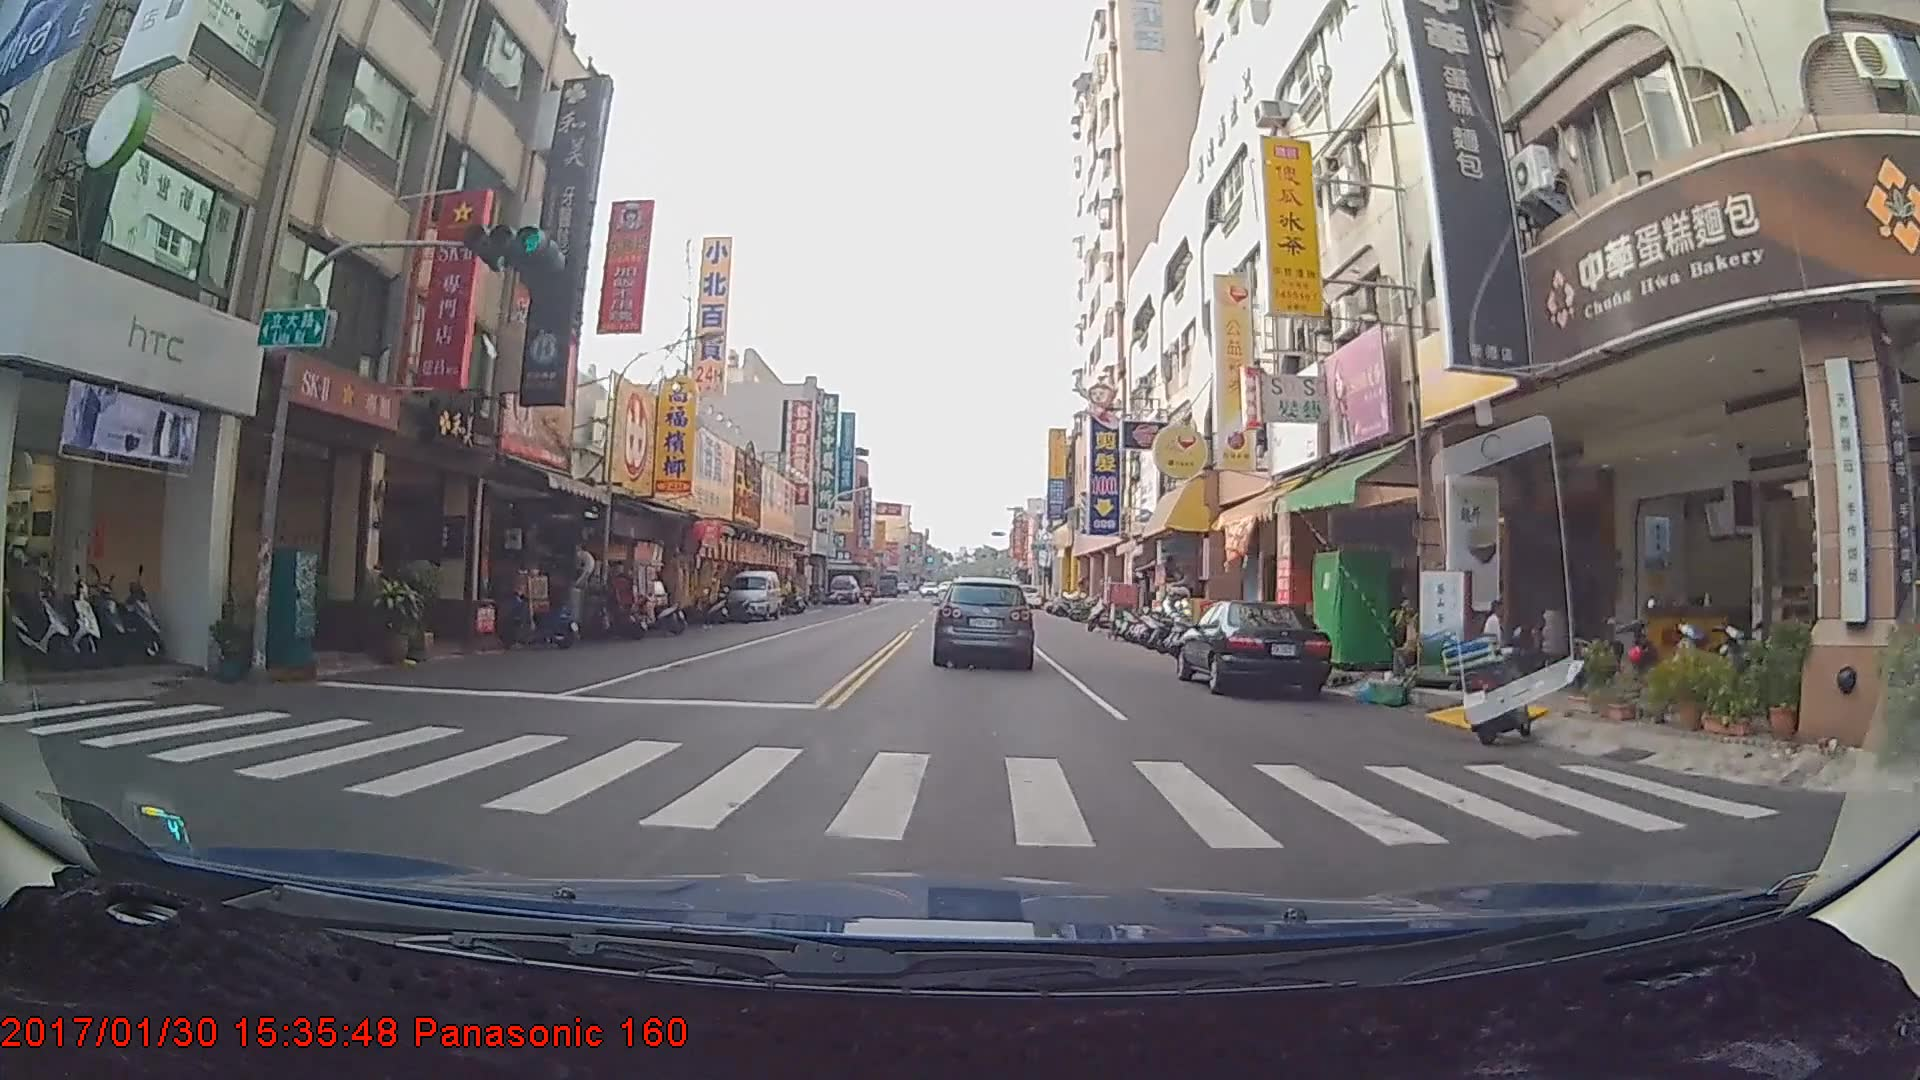pedestrian: (1526, 592, 1571, 689), (1480, 594, 1516, 686)
vehicle: (1179, 597, 1331, 697), (934, 578, 1033, 667), (724, 565, 779, 619), (828, 561, 860, 592), (1011, 581, 1039, 606)
